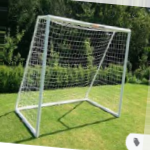goals: (12, 13, 133, 137)
